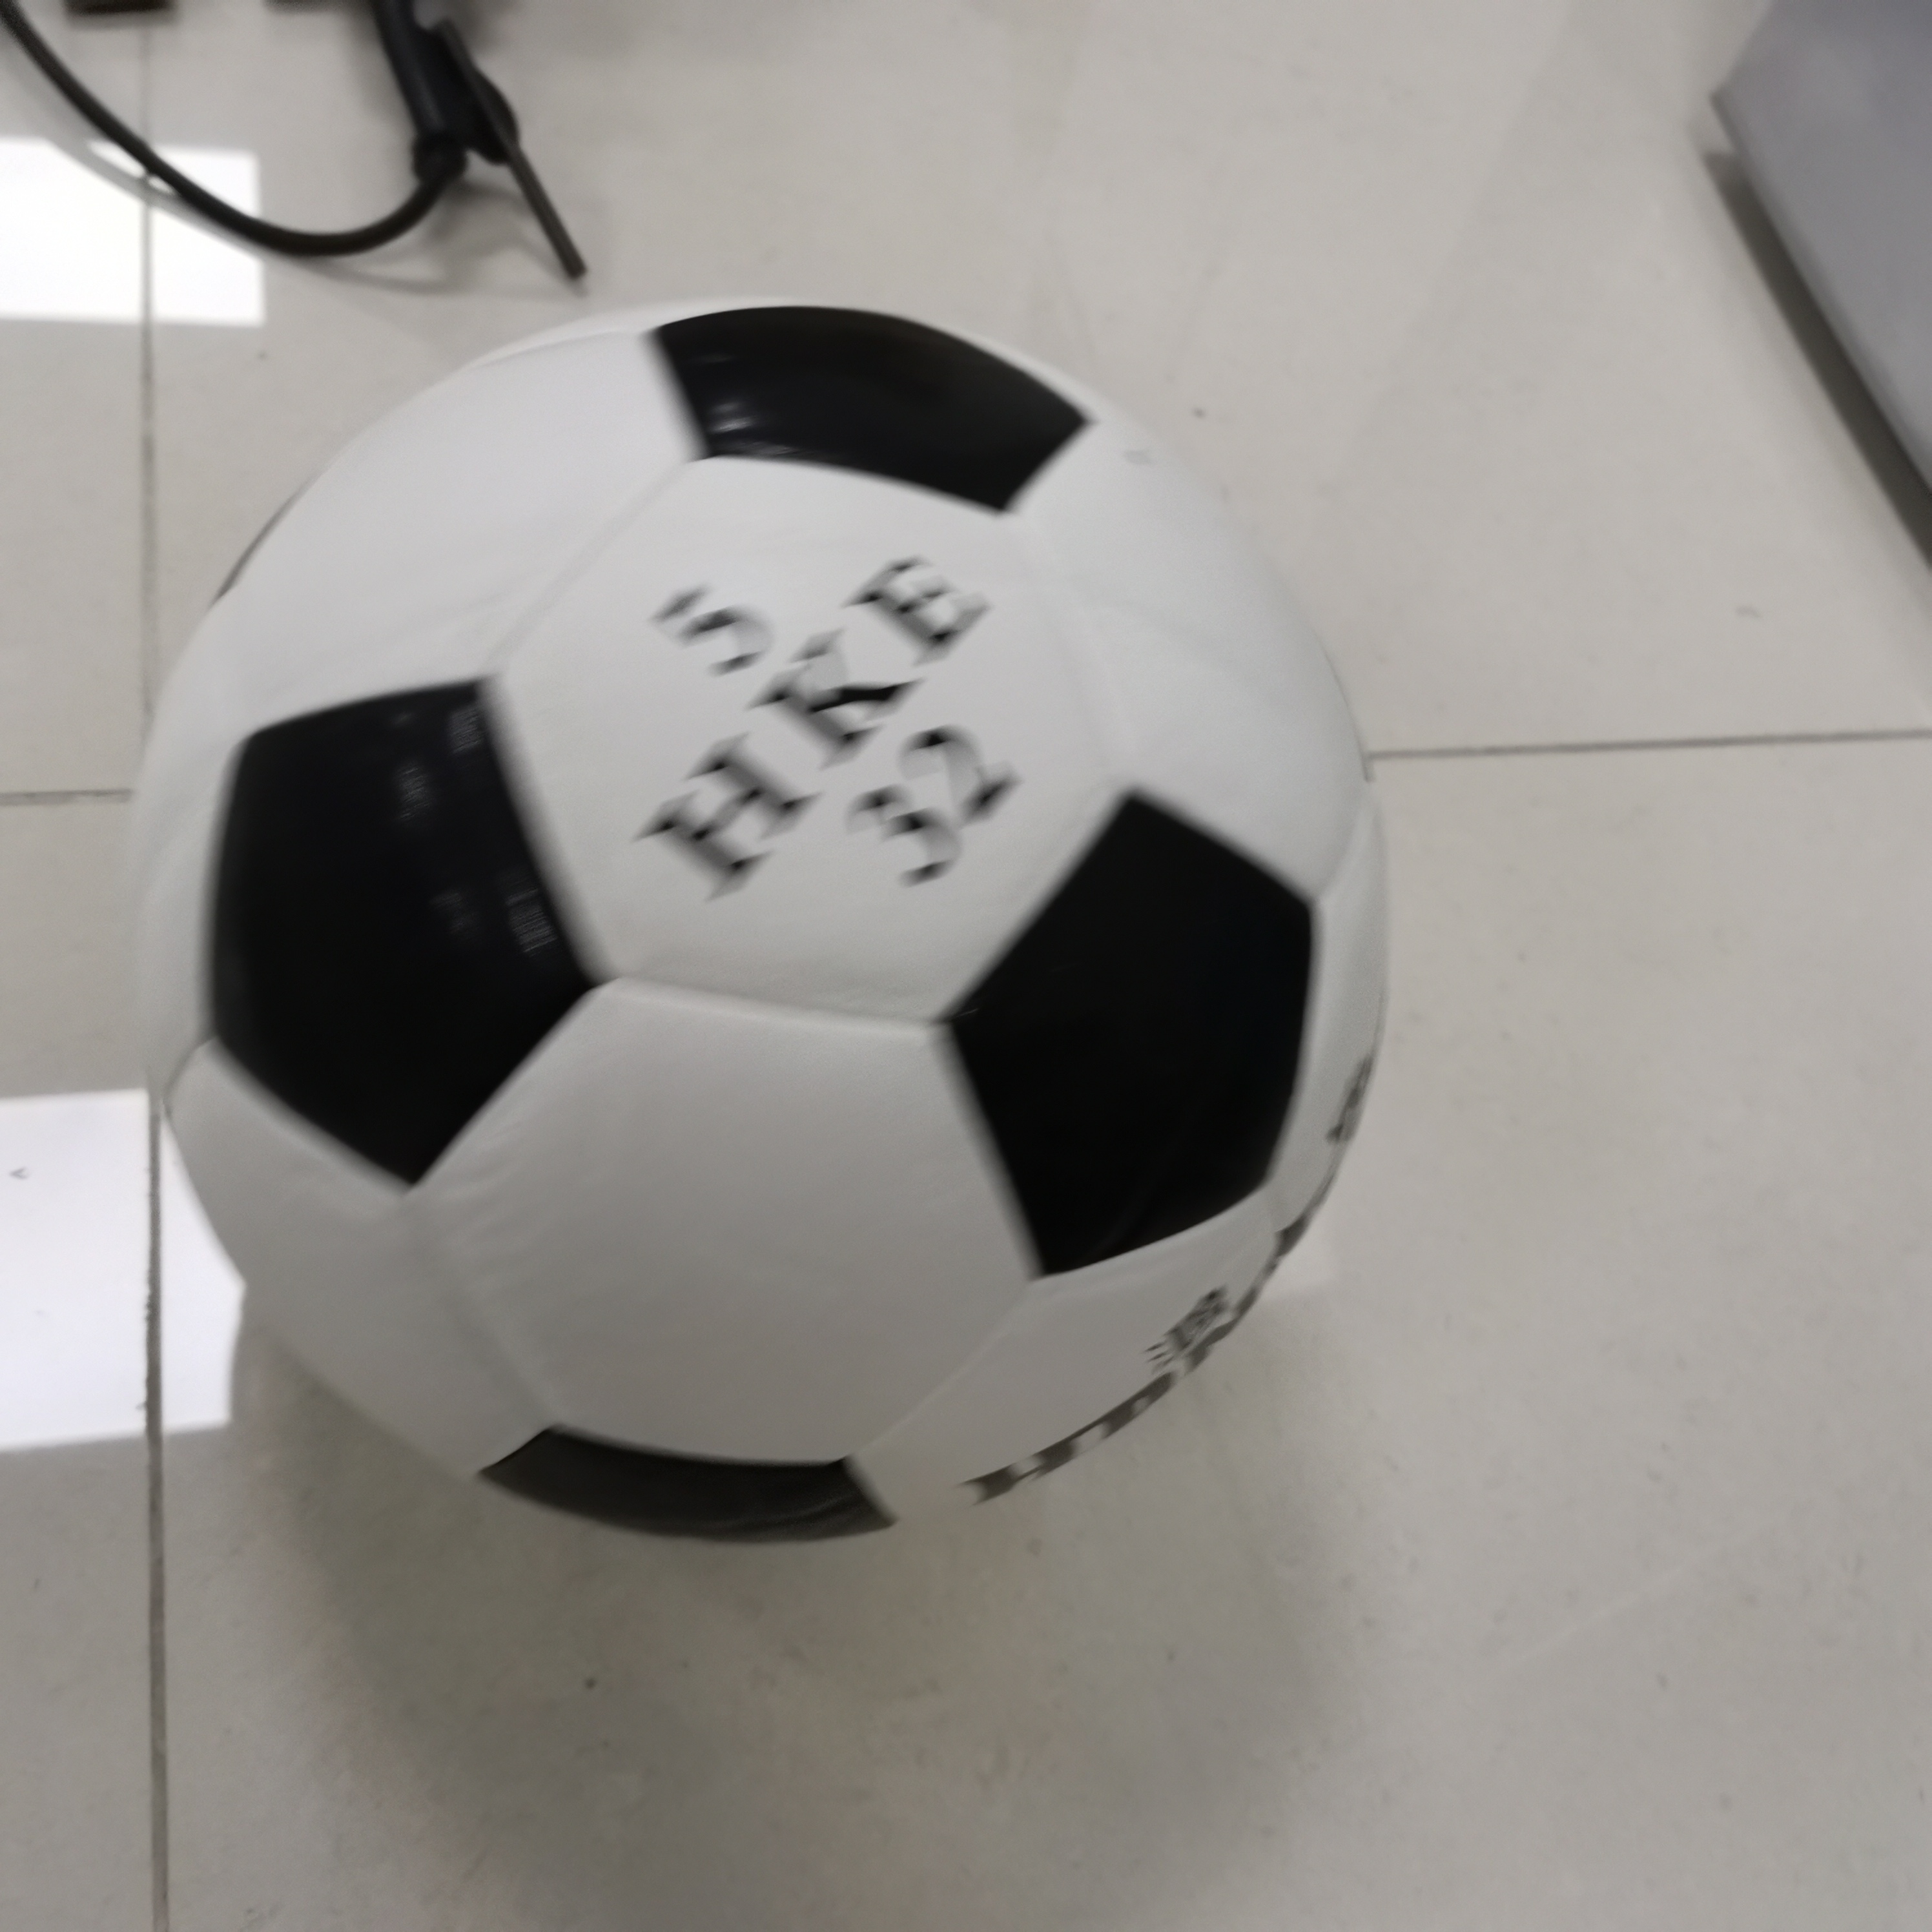football: (129, 301, 1398, 1539)
